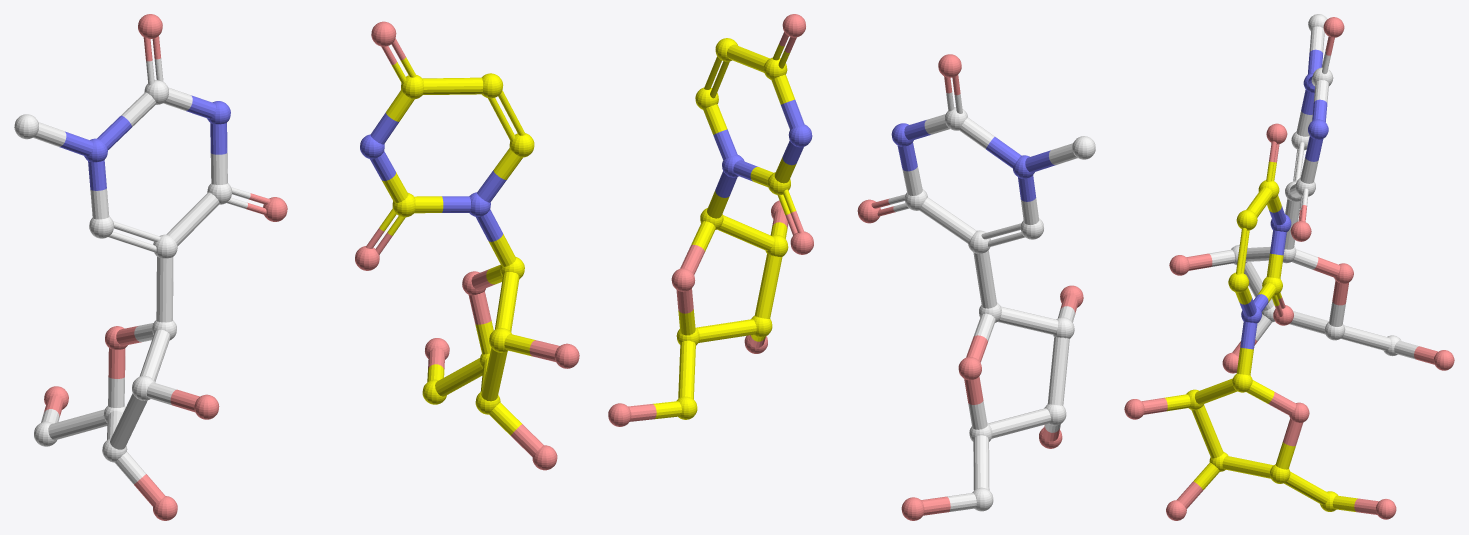
The model's file is psu.glb.
3 renders of one model, left to right at view 1: azimuth 30°, elevation 25°; view 2: azimuth 150°, elevation 25°; view 3: azimuth 270°, elevation 25°, orthographic. The views are drawn at different scales.
Visible parts, largest first — view 1: Shape_Cylinder.014, Shape_Cylinder.068, Shape_Cylinder.015, Shape_Cylinder.007, Shape_Cylinder.049, Shape_Cylinder.010, Shape_Cylinder.038, Shape_Cylinder.046, Shape_Cylinder.002; view 2: Shape_Cylinder.010, Shape_Cylinder.046, Shape_Cylinder.011, Shape_Cylinder.015, Shape_Cylinder.002, Shape_Cylinder.041, Shape_Cylinder.038, Shape_Cylinder.049, Shape_Cylinder.014, Shape_Cylinder.007, Shape_Cylinder.068; view 3: Shape_Cylinder.046, Shape_Cylinder.041, Shape_Cylinder.007, Shape_Cylinder.038, Shape_Cylinder.049, Shape_Cylinder.011, Shape_Cylinder.014, Shape_Cylinder.010, Shape_Cylinder.068, Shape_Cylinder.051, Shape_Cylinder.050.
Boxes of the visible parts, <box> form: Shape_Cylinder.014: <box>156,257,173,322</box>; Shape_Cylinder.068: <box>422,77,483,94</box>; Shape_Cylinder.015: <box>166,192,219,245</box>; Shape_Cylinder.007: <box>48,409,107,440</box>; Shape_Cylinder.049: <box>495,272,519,332</box>; Shape_Cylinder.010: <box>110,393,147,449</box>; Shape_Cylinder.038: <box>435,358,482,396</box>; Shape_Cylinder.046: <box>481,348,507,401</box>; Shape_Cylinder.002: <box>139,329,170,381</box>; Shape_Cylinder.010: <box>1047,337,1069,405</box>; Shape_Cylinder.046: <box>754,254,782,318</box>; Shape_Cylinder.011: <box>988,408,1050,438</box>; Shape_Cylinder.015: <box>919,197,976,243</box>; Shape_Cylinder.002: <box>998,306,1058,334</box>; Shape_Cylinder.041: <box>696,319,756,342</box>; Shape_Cylinder.038: <box>678,340,695,399</box>; Shape_Cylinder.049: <box>717,215,774,250</box>; Shape_Cylinder.014: <box>973,250,996,308</box>; Shape_Cylinder.007: <box>973,435,989,490</box>; Shape_Cylinder.068: <box>727,44,769,72</box>; Shape_Cylinder.046: <box>1191,405,1223,458</box>; Shape_Cylinder.041: <box>1222,456,1273,478</box>; Shape_Cylinder.007: <box>1340,325,1390,350</box>; Shape_Cylinder.038: <box>1284,471,1329,504</box>; Shape_Cylinder.049: <box>1195,378,1237,404</box>; Shape_Cylinder.011: <box>1289,311,1328,334</box>; Shape_Cylinder.014: <box>1284,198,1300,249</box>; Shape_Cylinder.010: <box>1244,261,1273,310</box>; Shape_Cylinder.068: <box>1246,187,1272,217</box>; Shape_Cylinder.051: <box>1240,321,1257,349</box>; Shape_Cylinder.050: <box>1236,347,1253,375</box>.
Bounding box in the file's own units: 9.78 × 9.05 × 7.12.
